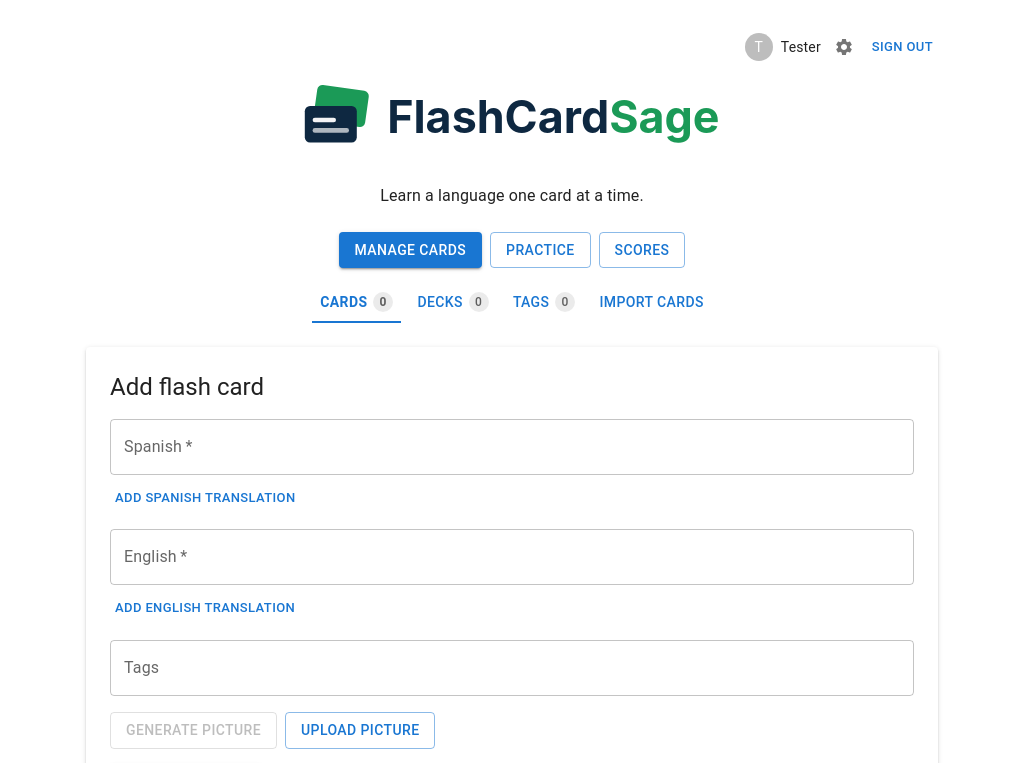
Test: auto translation › offers a word's other meanings, and keeps the one the user picks
The width and height of the screenshot is (1024, 763).
Step 1. Type "chair" into the field labelled "English" → (512, 557), box [110, 529, 914, 585]
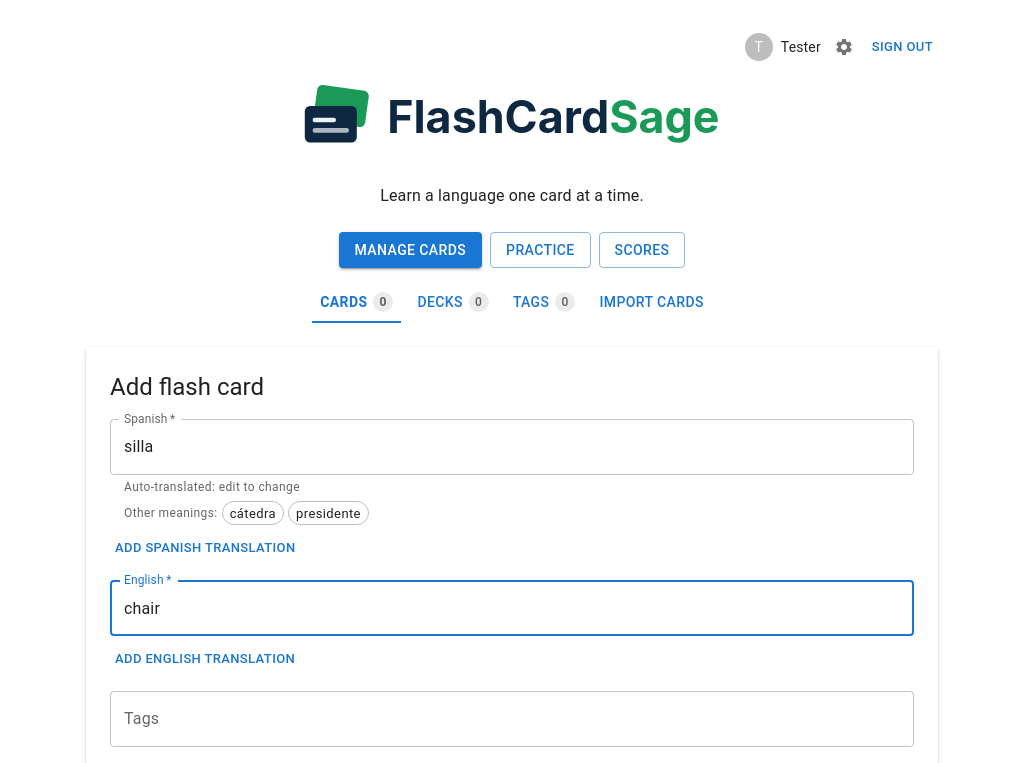
Expected: the field labelled "Spanish" holds "silla", [110, 419, 914, 475]
Expected: the text "Other meanings:" is shown, [124, 506, 218, 520]
Step 2. Click the button "presidente" → (328, 514), box [288, 502, 369, 526]
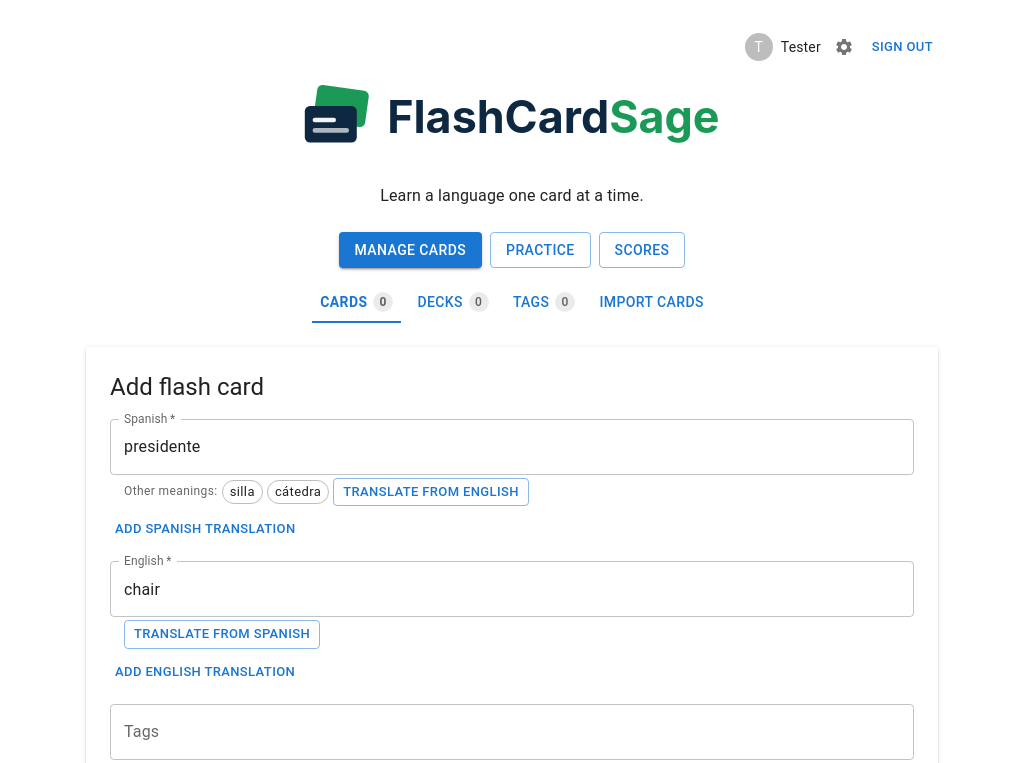
Expected: the field labelled "Spanish" holds "presidente", [110, 419, 914, 475]
Expected: the text "Auto-translated: edit to change" is gone
Expected: the button "silla" is shown, [222, 480, 263, 504]
Step 3. Type "s" into the field labelled "English" → (512, 589), box [110, 561, 914, 617]
Wait 1200 ms
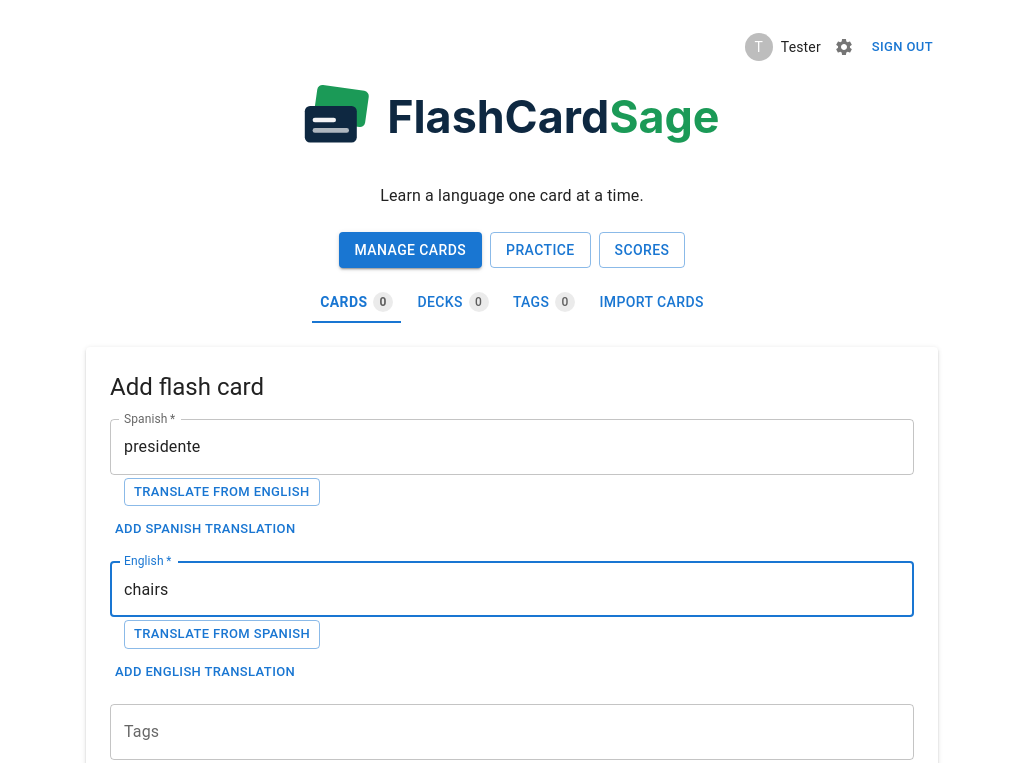
Expected: the field labelled "Spanish" holds "presidente", [110, 419, 914, 475]
Expected: the text "Other meanings:" is gone
